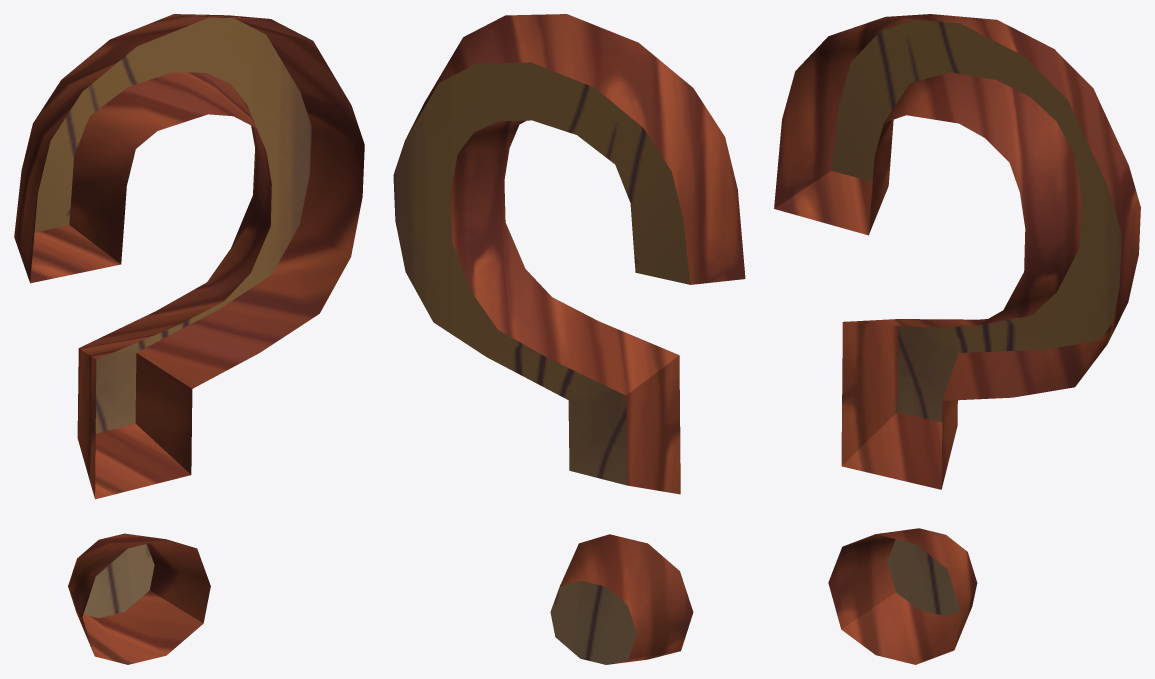
Rendered from tree question mark.FBX.
3 renders of one model, left to right at view 1: azimuth 30°, elevation 25°; view 2: azimuth 150°, elevation 25°; view 3: azimuth 330°, elevation 25°, orthographic. The views are drawn at different scales.
Visible parts, largest first — view 1: Tree ?; view 2: Tree ?; view 3: Tree ?.
Part boxes in pixels (bbox=[...]): Tree ?: bbox=[14, 14, 364, 664]; Tree ?: bbox=[393, 14, 745, 664]; Tree ?: bbox=[774, 14, 1140, 664].
Bounding box in the file's own units: 157 × 282 × 29.01.
